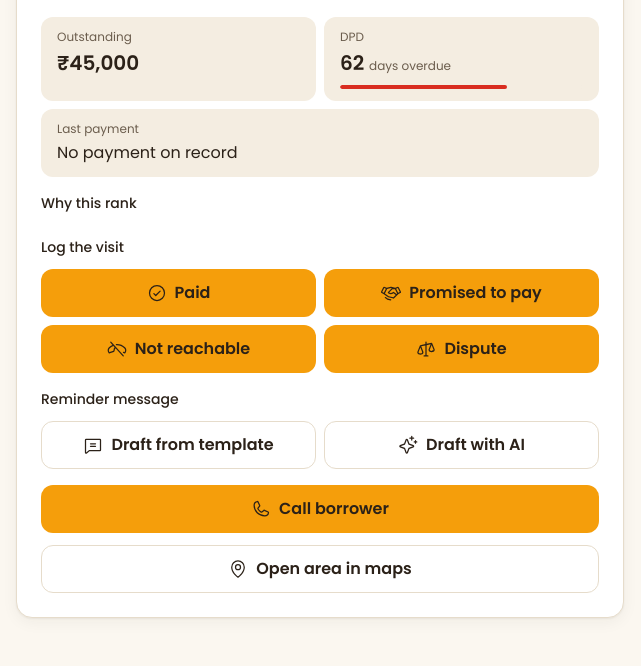
reminder panel › asks for an AI draft and shows the fallback note when AI was not used
The image size is (641, 666).
(page scrolled)
Click the button "Draft with AI": [462, 445] box [324,421,599,469]
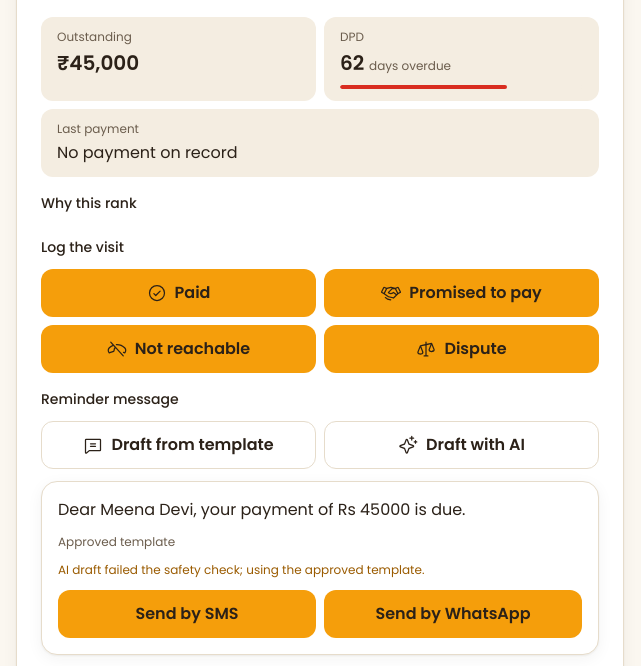
Expected: the text "safety check" is shown, [58,561,424,578]
